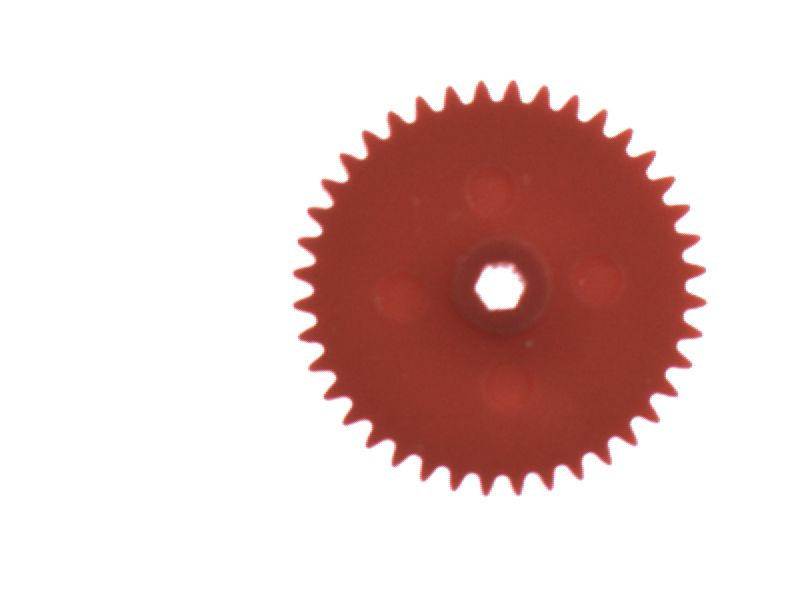good_product: (283, 72, 712, 507)
